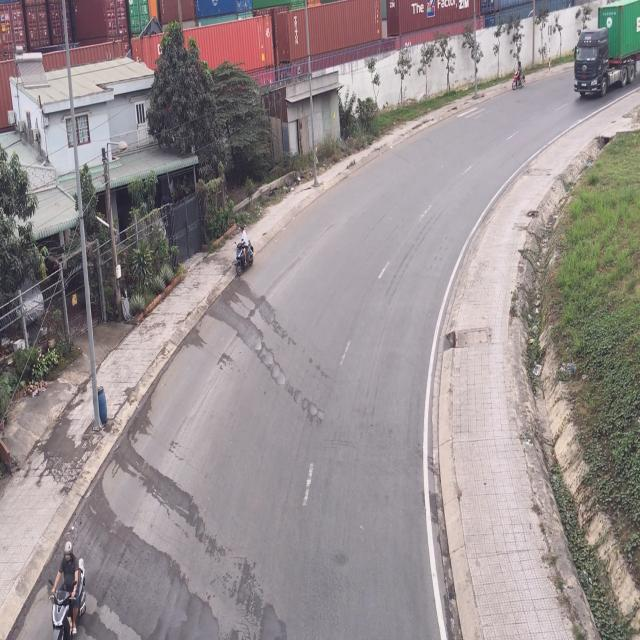motorbike: (50, 549, 86, 637), (235, 229, 256, 278), (514, 56, 528, 92)
truck: (571, 0, 637, 99)
